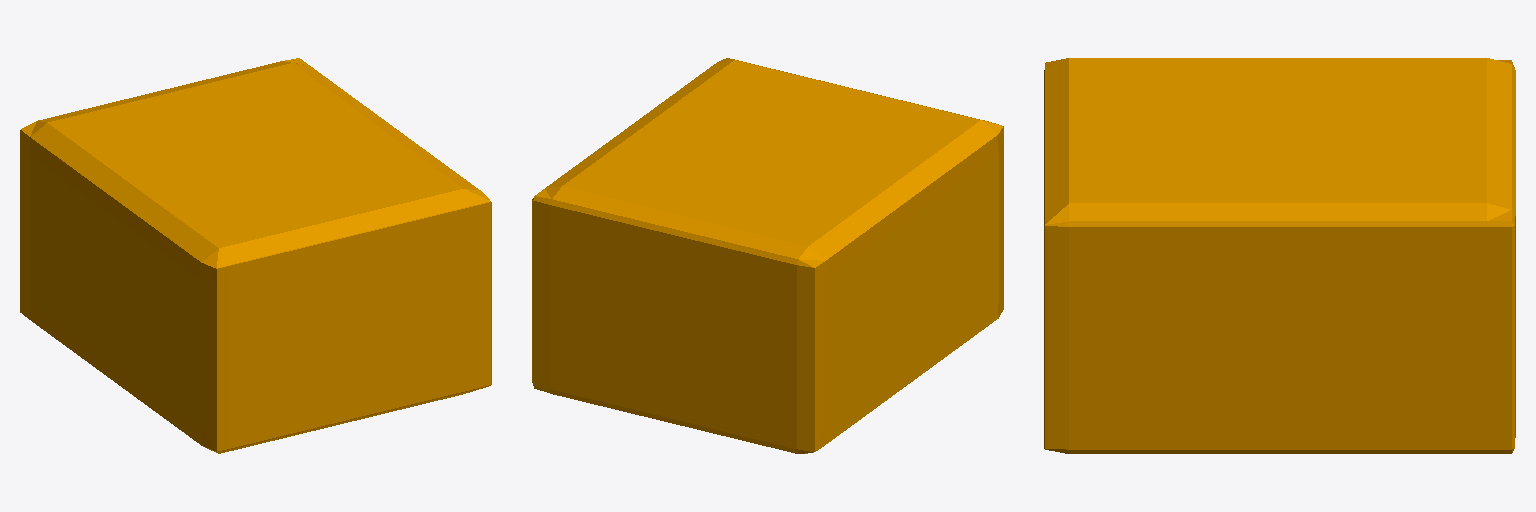
robot.urdf — cylinder_box_72:
<?xml version="1.0" encoding="utf-8"?>  <robot name="cylinder_box_72">   <link name="cylinder_box_72">     <visual>       <geometry>         <mesh filename="../meshes/box/box_72.stl" scale="1 1 1"/>       </geometry>     </visual>     <collision>       <geometry>         <mesh filename="../meshes/box/box_72.stl" scale="1 1 1"/>       </geometry>     </collision>     <inertial>        <origin         xyz="0 0 0"         rpy="0 0 0" />       <mass value="0.4287485324619422"/>       <origin rpy="0 0 0" xyz="0 0 0"/>       <inertia ixx="0.0004356273407704563" ixy="1.1441006253780036e-07" ixz="4.167256244502959e-08" iyy="0.0003394372253994753" iyz="5.279467850521767e-08" izz="0.0005535907411944778"/>     </inertial>   </link>  </robot>

--- Facts derived from the render (not from the file) ---
Views: 3 orthographic renders of the robot side by side, from view 1: azimuth 30°, elevation 25°; view 2: azimuth 150°, elevation 25°; view 3: azimuth 270°, elevation 25°.
Model cylinder_box_72 with 1 links and 0 joints (none), rooted at cylinder_box_72, posed every joint at zero.
Visible links, largest first — view 1: cylinder_box_72; view 2: cylinder_box_72; view 3: cylinder_box_72.
Boxes of the visible links, left/top/right/bottom form: cylinder_box_72: left=20, top=58, right=491, bottom=453; cylinder_box_72: left=532, top=58, right=1003, bottom=453; cylinder_box_72: left=1044, top=58, right=1515, bottom=453.
Size in the robot's own frame: 0.0805 by 0.0959 by 0.0562 metres.
Meshes: 1 distinct files referenced, 1 mesh visuals loaded (1 binary STL).